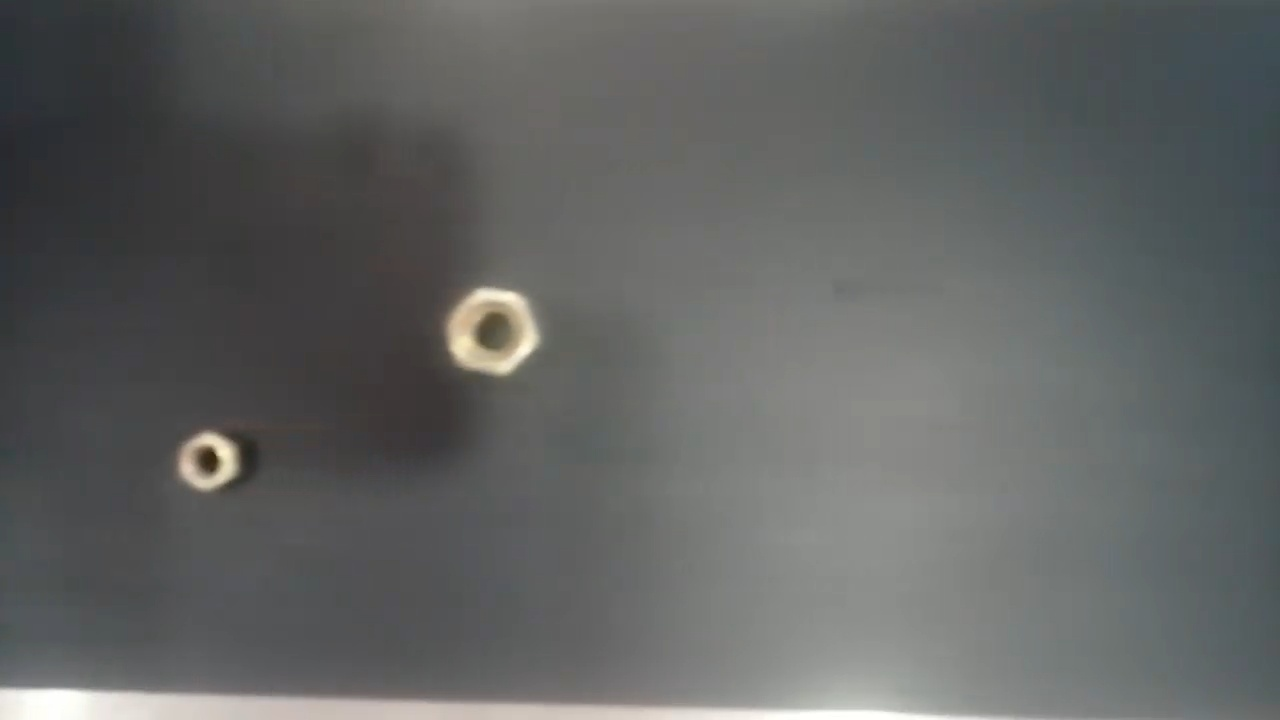Bolt: (440, 284, 541, 378), (171, 427, 248, 494)
